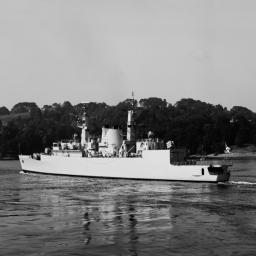Fragata: (19, 90, 233, 186)
